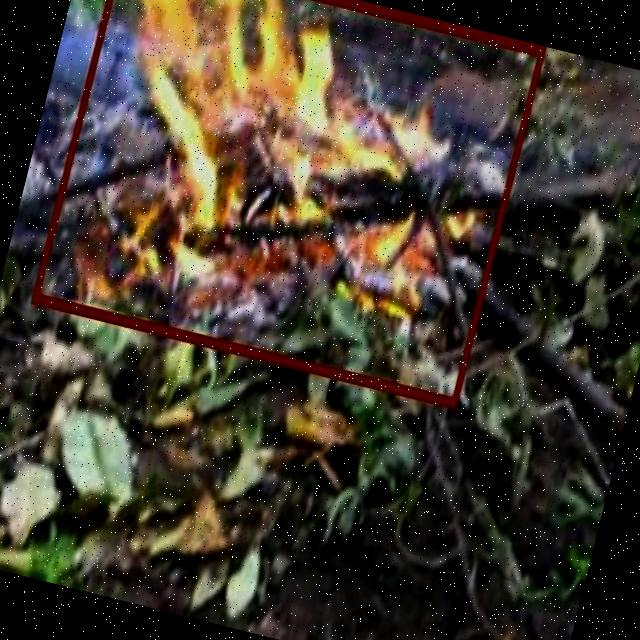fire: (29, 0, 544, 407)
